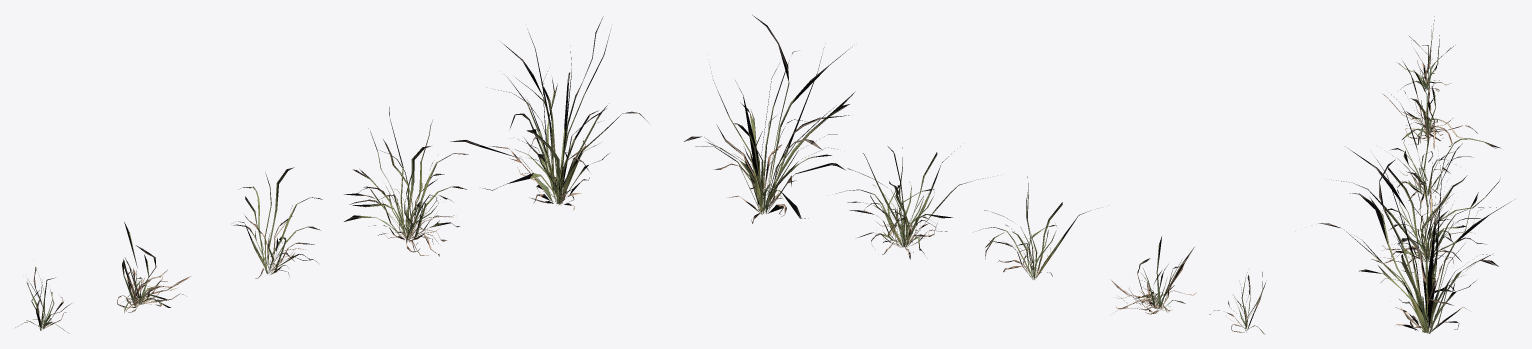
3 views of the same model, side by side, from view 1: azimuth 30°, elevation 25°; view 2: azimuth 150°, elevation 25°; view 3: azimuth 270°, elevation 25° (orthographic). The views are drawn at different scales.
Parts seen in each view (by area): view 1: grass_medium_02_e, grass_medium_02_d, grass_medium_02_c, grass_medium_02_b, grass_medium_02_a; view 2: grass_medium_02_e, grass_medium_02_d, grass_medium_02_c, grass_medium_02_b, grass_medium_02_a; view 3: grass_medium_02_e, grass_medium_02_d, grass_medium_02_c, grass_medium_02_b, grass_medium_02_a.
Boxes of the visible parts, <box> form: grass_medium_02_e: <box>450,16,650,210</box>; grass_medium_02_d: <box>344,107,468,256</box>; grass_medium_02_c: <box>233,167,322,278</box>; grass_medium_02_b: <box>117,222,190,312</box>; grass_medium_02_a: <box>15,267,71,332</box>; grass_medium_02_e: <box>684,15,855,223</box>; grass_medium_02_d: <box>836,146,985,259</box>; grass_medium_02_c: <box>979,176,1090,279</box>; grass_medium_02_b: <box>1110,236,1196,314</box>; grass_medium_02_a: <box>1209,272,1265,334</box>; grass_medium_02_e: <box>1319,148,1511,333</box>; grass_medium_02_d: <box>1331,143,1499,272</box>; grass_medium_02_c: <box>1391,94,1500,213</box>; grass_medium_02_b: <box>1382,62,1477,149</box>; grass_medium_02_a: <box>1398,16,1453,91</box>.
Bounding box in the file's own units: 1.29 × 0.4049 × 0.4318.
1 material, 1 textured.
